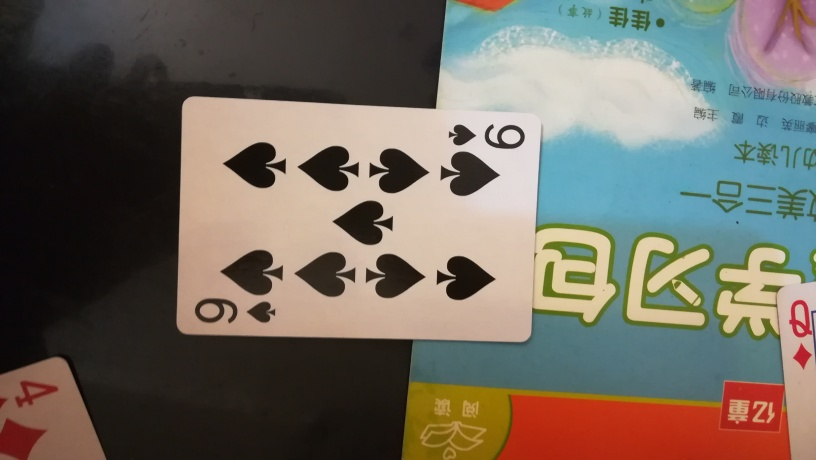ht 9: (174, 90, 545, 346)
